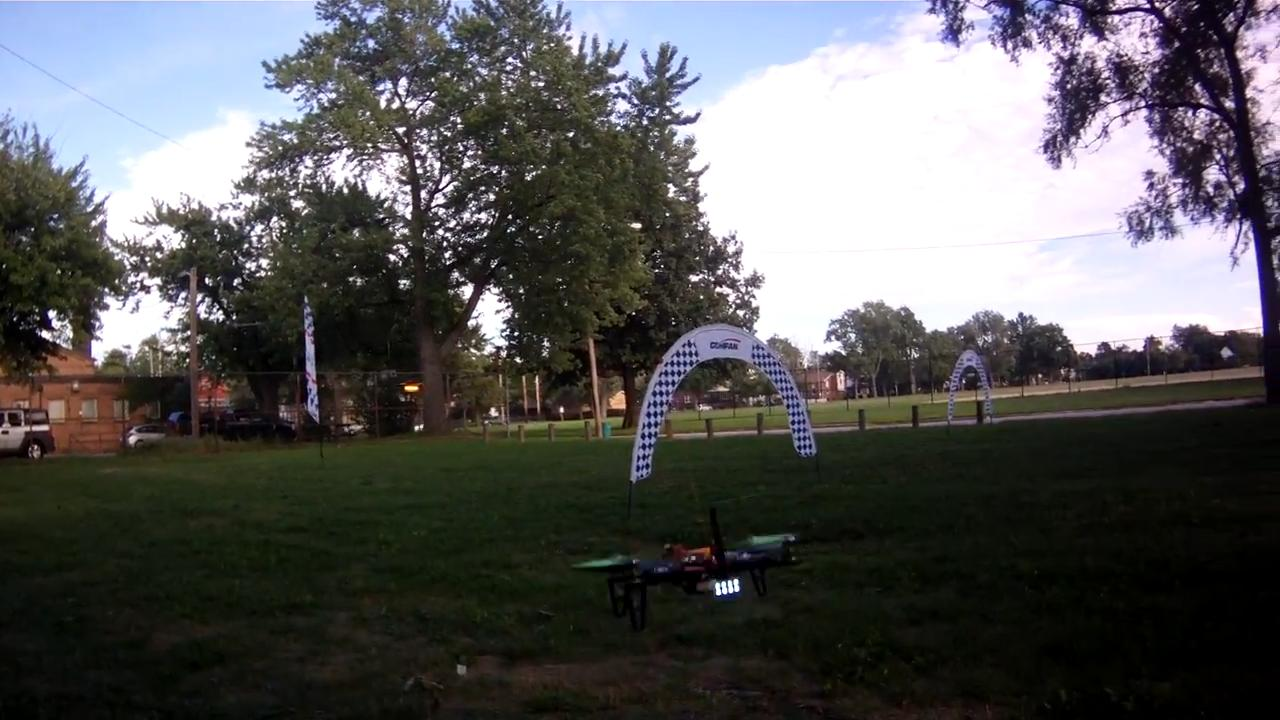gate: (632, 320, 818, 481), (943, 347, 995, 429)
